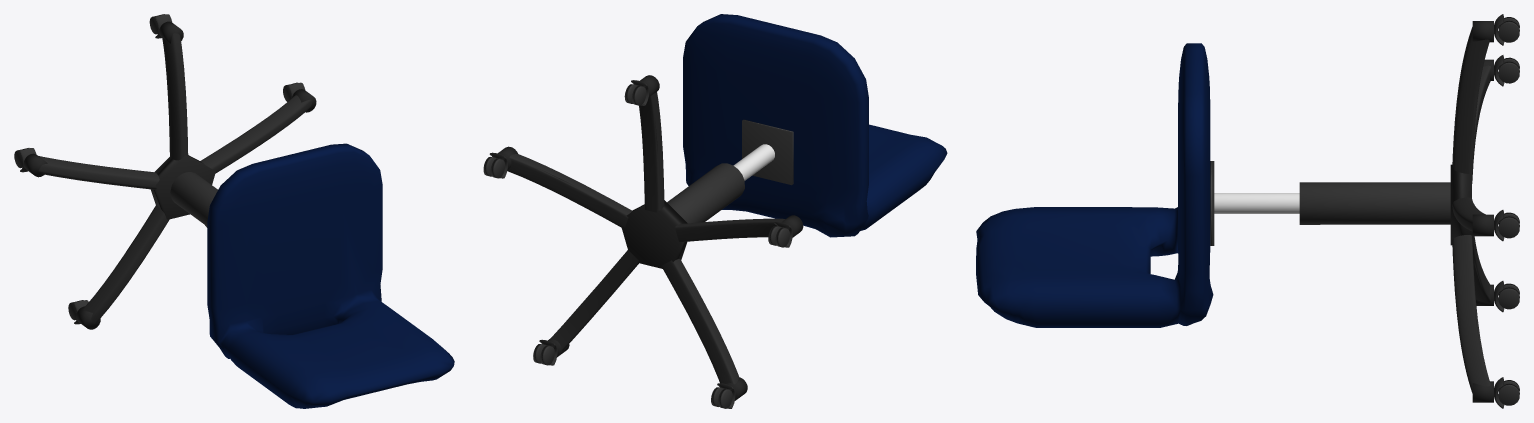
The model's file is newchairv2.fbx.
3 views of the same model, side by side, from view 1: azimuth 30°, elevation 25°; view 2: azimuth 150°, elevation 25°; view 3: azimuth 270°, elevation 25° (orthographic). The views are drawn at different scales.
Visible parts, largest first — view 1: Mball_004, NurbsCurve_003, NurbsCurve, NurbsCurve_001, NurbsCurve_002, Cylinder_002, Cylinder_001; view 2: Mball_004, Cylinder_002, NurbsCurve_003, Cylinder_001, NurbsCurve_001, NurbsCurve, Cube, NurbsCurve_004, NurbsCurve_002, Cylinder; view 3: Mball_004, Cylinder_001, NurbsCurve_004, NurbsCurve, Cylinder, Cylinder_002, NurbsCurve_003, NurbsCurve_001, NurbsCurve_002, Cylinder_008.
Part boxes in pixels (bbox=[...]): Mball_004: bbox=[207, 143, 454, 408]; NurbsCurve_003: bbox=[83, 205, 169, 323]; NurbsCurve: bbox=[162, 33, 188, 160]; NurbsCurve_001: bbox=[200, 95, 311, 173]; NurbsCurve_002: bbox=[38, 156, 159, 189]; Cylinder_002: bbox=[150, 155, 215, 219]; Cylinder_001: bbox=[170, 172, 217, 226]; Mball_004: bbox=[683, 14, 947, 237]; Cylinder_002: bbox=[621, 200, 687, 268]; NurbsCurve_003: bbox=[661, 259, 739, 384]; Cylinder_001: bbox=[667, 163, 744, 223]; NurbsCurve_001: bbox=[507, 154, 632, 228]; NurbsCurve: bbox=[639, 92, 664, 212]; Cube: bbox=[742, 119, 793, 185]; NurbsCurve_004: bbox=[550, 250, 638, 350]; NurbsCurve_002: bbox=[675, 218, 785, 242]; Cylinder: bbox=[733, 144, 774, 180]; Mball_004: bbox=[976, 43, 1213, 327]; Cylinder_001: bbox=[1299, 182, 1450, 224]; NurbsCurve_004: bbox=[1452, 235, 1490, 393]; NurbsCurve: bbox=[1452, 27, 1489, 176]; Cylinder: bbox=[1214, 193, 1299, 213]; Cylinder_002: bbox=[1450, 164, 1471, 245]; NurbsCurve_003: bbox=[1472, 231, 1490, 302]; NurbsCurve_001: bbox=[1452, 197, 1485, 231]; NurbsCurve_002: bbox=[1472, 65, 1490, 183]; Cylinder_008: bbox=[1472, 214, 1493, 236].
Bounding box in the file's own units: 3.61 × 3.52 × 5.09.
